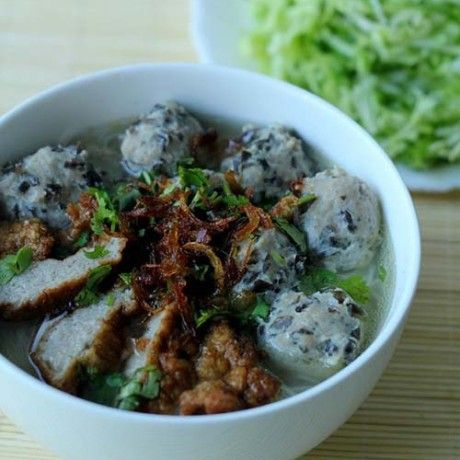chamoc: (261, 285, 368, 367), (301, 171, 384, 272), (6, 142, 97, 222), (229, 121, 314, 195), (123, 101, 210, 173)
onion: (137, 196, 235, 270)
